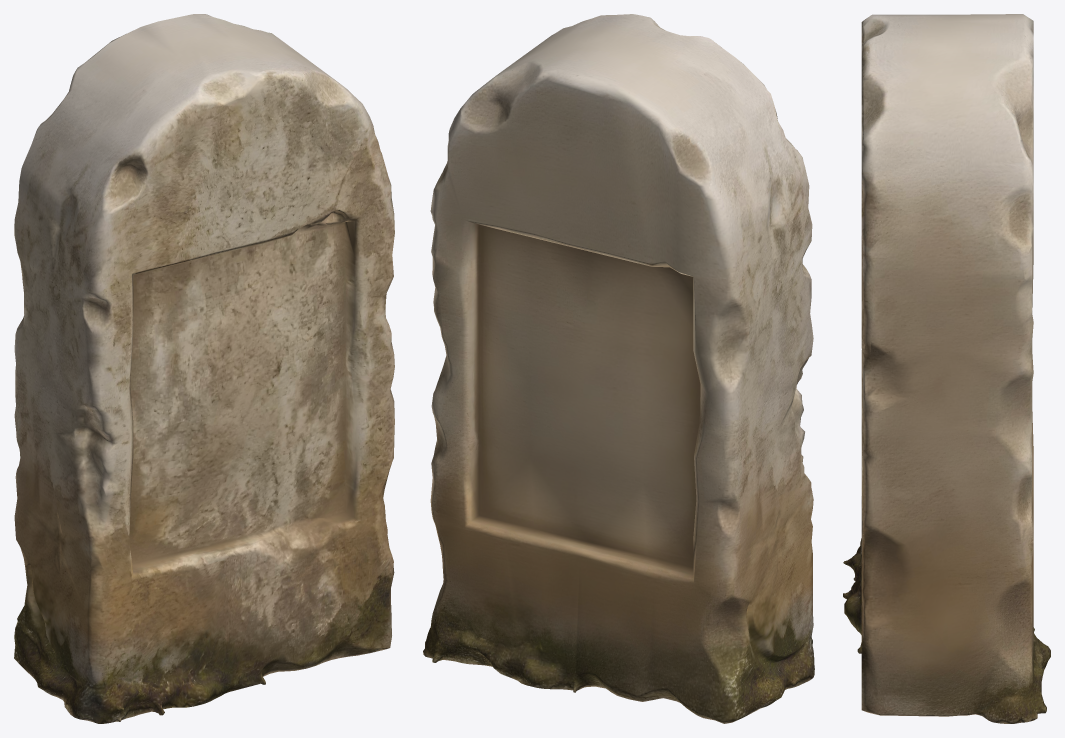
Rendered from original_glb.glb.
3 views of the same model, side by side, from view 1: azimuth 30°, elevation 25°; view 2: azimuth 150°, elevation 25°; view 3: azimuth 270°, elevation 25° (orthographic).
Visible parts, largest first — view 1: stone milestone; view 2: stone milestone; view 3: stone milestone.
Boxes of the visible parts, x1=… form: stone milestone: x1=14, y1=14, x2=394, y2=723; stone milestone: x1=423, y1=14, x2=814, y2=723; stone milestone: x1=843, y1=14, x2=1050, y2=723.
Size of the model in its own units: 0.5566 by 0.998 by 0.3066.
1 material, 1 textured.
